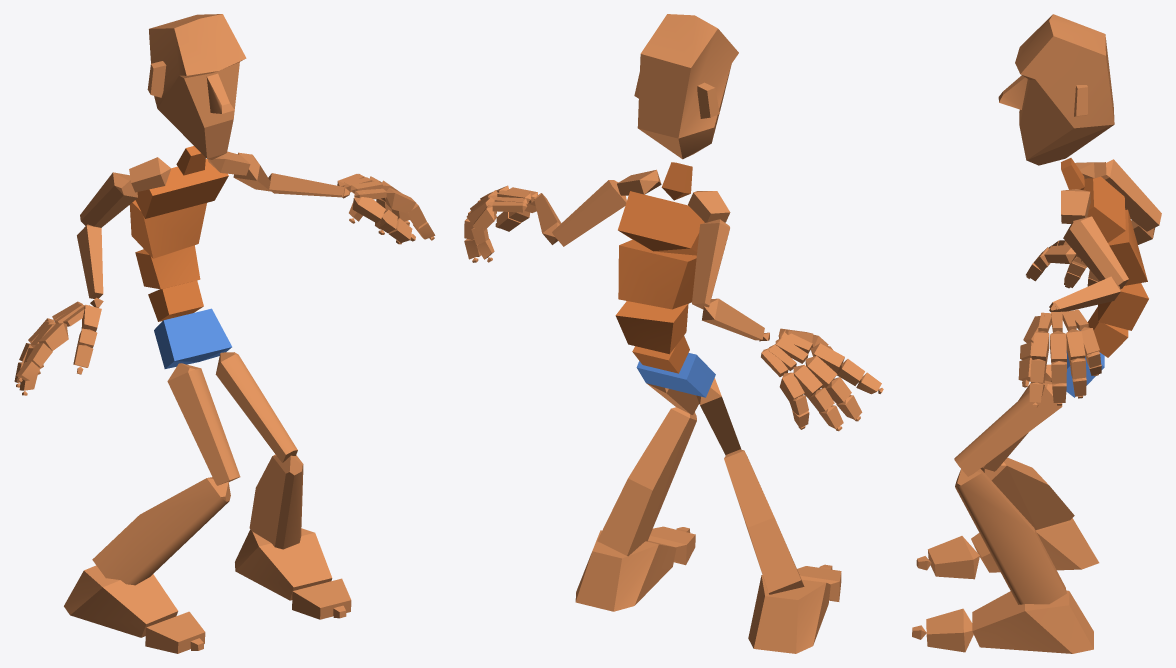
Rendered from prueba284.obj.
3 views of the same model, side by side, from view 1: azimuth 30°, elevation 25°; view 2: azimuth 150°, elevation 25°; view 3: azimuth 270°, elevation 25° (orthographic). The views are drawn at different scales.
Visible parts, largest first — view 1: BOPED_Head, BOPED_R_leg, BOPED_R_foot, BOPED_R_foot01, BOPED_L_leg, BOPED_R_legup, Bone01, BOPED_L_legup, Bone04, Bone05, Bone03, BOPED_R_arm_upper (+9 smaller); view 2: BOPED_Head, BOPED_L_leg, BOPED_R_foot01, BOPED_R_foot, BOPED_R_leg, Bone04, Bone05, Bone03, BOPED_R_arm_upper, BOPED_L_arm_upper, Bone01, BOPED_R_legup (+9 smaller); view 3: BOPED_Head, BOPED_L_leg, BOPED_R_foot01, BOPED_L_legup, BOPED_R_leg, BOPED_R_foot, BOPED_L_arm_upper, Bone05, BOPED_R_arm_upper, BOPED_R_foot_toe01, BOPED_R_foot_toe04, Bone03 (+12 smaller).
Boxes of the visible parts, x1=… form: BOPED_Head: x1=147, y1=14, x2=246, y2=159; BOPED_R_leg: x1=92, y1=477, x2=230, y2=585; BOPED_R_foot: x1=64, y1=565, x2=178, y2=637; BOPED_R_foot01: x1=235, y1=528, x2=332, y2=600; BOPED_L_leg: x1=249, y1=454, x2=303, y2=549; BOPED_R_legup: x1=167, y1=363, x2=240, y2=485; Bone01: x1=154, y1=308, x2=231, y2=368; BOPED_L_legup: x1=215, y1=352, x2=297, y2=462; Bone04: x1=129, y1=200, x2=206, y2=258; Bone05: x1=135, y1=159, x2=228, y2=218; Bone03: x1=135, y1=245, x2=200, y2=289; BOPED_R_arm_upper: x1=80, y1=172, x2=137, y2=227; BOPED_Head: x1=634, y1=14, x2=738, y2=159; BOPED_L_leg: x1=597, y1=407, x2=696, y2=556; BOPED_R_foot01: x1=575, y1=530, x2=676, y2=611; BOPED_R_foot: x1=748, y1=575, x2=830, y2=653; BOPED_R_leg: x1=724, y1=449, x2=804, y2=594; Bone04: x1=618, y1=240, x2=696, y2=309; Bone05: x1=618, y1=191, x2=704, y2=255; Bone03: x1=615, y1=301, x2=688, y2=354; BOPED_R_arm_upper: x1=692, y1=219, x2=729, y2=309; BOPED_L_arm_upper: x1=552, y1=180, x2=626, y2=246; Bone01: x1=636, y1=353, x2=715, y2=397; BOPED_R_legup: x1=696, y1=378, x2=741, y2=455; BOPED_Head: x1=998, y1=14, x2=1114, y2=165; BOPED_L_leg: x1=955, y1=469, x2=1066, y2=604; BOPED_R_foot01: x1=972, y1=590, x2=1093, y2=653; BOPED_L_legup: x1=954, y1=380, x2=1062, y2=476; BOPED_R_leg: x1=980, y1=457, x2=1074, y2=529; BOPED_R_foot: x1=971, y1=518, x2=1099, y2=572; BOPED_L_arm_upper: x1=1063, y1=216, x2=1128, y2=289; Bone05: x1=1083, y1=176, x2=1125, y2=242; BOPED_R_arm_upper: x1=1101, y1=159, x2=1161, y2=231; BOPED_R_foot_toe01: x1=928, y1=536, x2=979, y2=579; BOPED_R_foot_toe04: x1=926, y1=608, x2=973, y2=652; Bone03: x1=1098, y1=283, x2=1148, y2=330.
Size of the model in its own units: 130 by 175 by 67.82.
